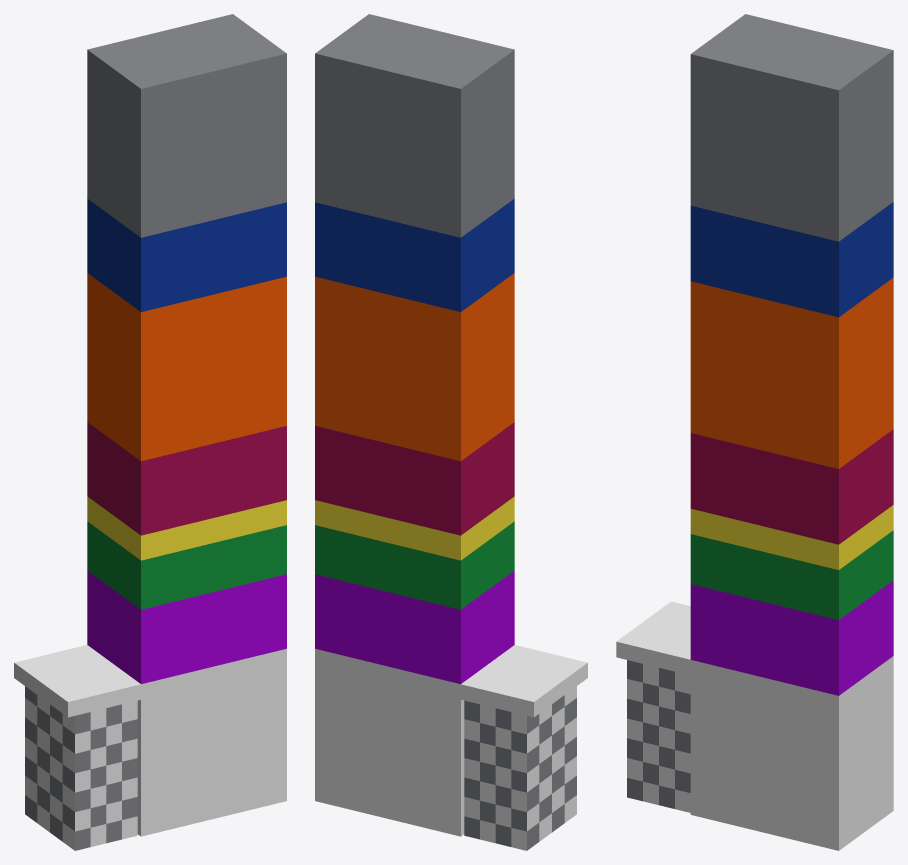
3 renders of one model, left to right at view 1: azimuth 30°, elevation 25°; view 2: azimuth 150°, elevation 25°; view 3: azimuth 330°, elevation 25°, orthographic.
Parts seen in each view (by area): view 1: Cube.008, Cube.001; view 2: Cube.008, Cube.001; view 3: Cube.008, Cube.001.
Part boxes in pixels (left/top/right/bottom): Cube.008: left=87, top=14, right=286, bottom=684; Cube.001: left=14, top=645, right=286, bottom=850; Cube.008: left=315, top=14, right=514, bottom=684; Cube.001: left=315, top=645, right=587, bottom=850; Cube.008: left=690, top=14, right=893, bottom=695; Cube.001: left=616, top=601, right=893, bottom=850.
Bounding box in the file's own units: 30.05 × 98.13 × 12.83.
